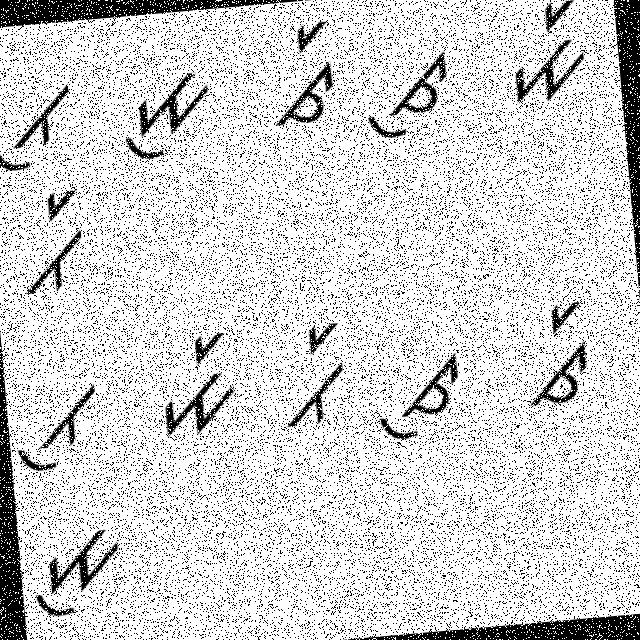bar: (273, 308, 362, 441), (13, 182, 95, 298)
baw: (6, 367, 108, 484), (0, 76, 80, 176)
car: (518, 292, 602, 418), (258, 19, 341, 130)
caw: (354, 34, 464, 148), (362, 339, 474, 448)
mar: (152, 318, 246, 451), (497, 0, 593, 106)
maw: (24, 512, 130, 618), (116, 64, 217, 168)
